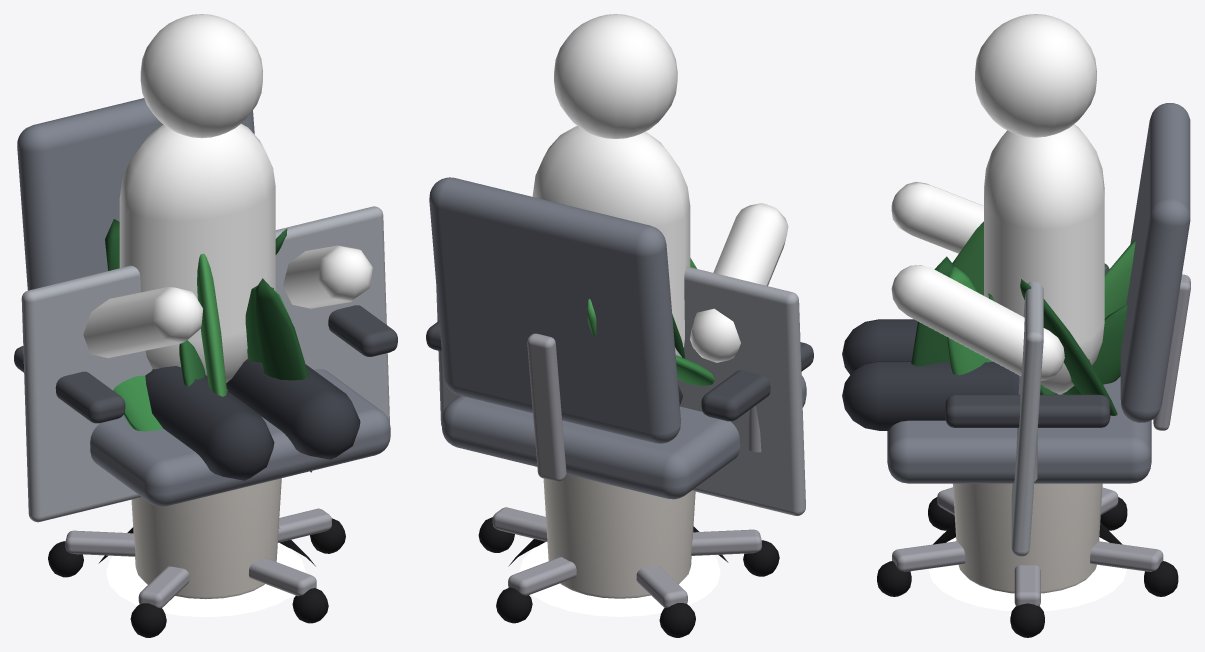
The model's file is office-kit.glb.
The picture shows the model from 3 angles, left to right: view 1: azimuth 30°, elevation 25°; view 2: azimuth 150°, elevation 25°; view 3: azimuth 270°, elevation 25°; orthographic projection.
Parts seen in each view (by area): view 1: PersonBody, ChairFabric, MonitorBody, PlantPot, PersonHead, PlantLeaves, ChairFrame, LampGlow; view 2: ChairFabric, PersonBody, MonitorBody, ChairFrame, PlantPot, PersonHead, LampGlow, PlantLeaves; view 3: PersonBody, ChairFabric, PlantPot, PersonHead, ChairFrame, PlantLeaves, MonitorBody, LampGlow.
Boxes of the visible parts, x1=… form: PersonBody: x1=83, y1=124, x2=372, y2=480; ChairFabric: x1=14, y1=98, x2=397, y2=506; MonitorBody: x1=21, y1=206, x2=389, y2=522; PlantPot: x1=131, y1=478, x2=281, y2=598; PersonHead: x1=140, y1=14, x2=262, y2=138; PlantLeaves: x1=105, y1=219, x2=311, y2=472; ChairFrame: x1=48, y1=343, x2=347, y2=637; LampGlow: x1=106, y1=543, x2=305, y2=617; ChairFabric: x1=426, y1=177, x2=813, y2=499; PersonBody: x1=532, y1=126, x2=788, y2=405; MonitorBody: x1=436, y1=266, x2=805, y2=515; ChairFrame: x1=478, y1=333, x2=779, y2=637; PlantPot: x1=543, y1=474, x2=695, y2=598; PersonHead: x1=554, y1=14, x2=677, y2=138; LampGlow: x1=519, y1=542, x2=720, y2=616; PlantLeaves: x1=587, y1=258, x2=714, y2=385; PersonBody: x1=842, y1=124, x2=1104, y2=430; ChairFabric: x1=887, y1=103, x2=1190, y2=483; PlantPot: x1=953, y1=483, x2=1102, y2=593; PersonHead: x1=975, y1=14, x2=1096, y2=137; ChairFrame: x1=877, y1=274, x2=1190, y2=637; PlantLeaves: x1=911, y1=221, x2=1135, y2=415; MonitorBody: x1=1011, y1=281, x2=1043, y2=556; LampGlow: x1=928, y1=537, x2=1126, y2=611.
Bounding box in the file's own units: 0.5 × 0.745 × 0.4227.
